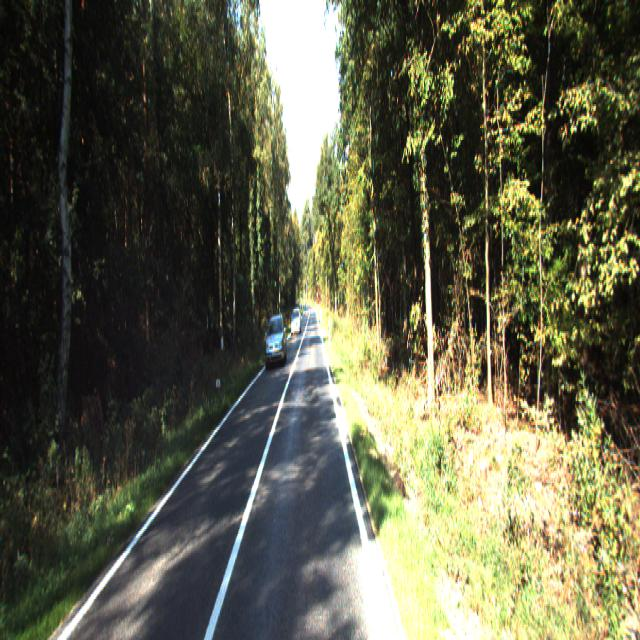Car: (263, 312, 287, 370), (290, 308, 302, 335)
